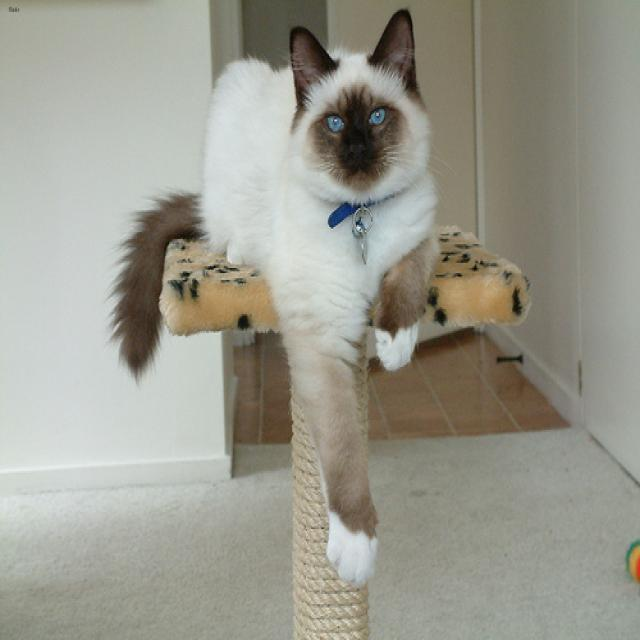cat: (288, 8, 428, 200)
